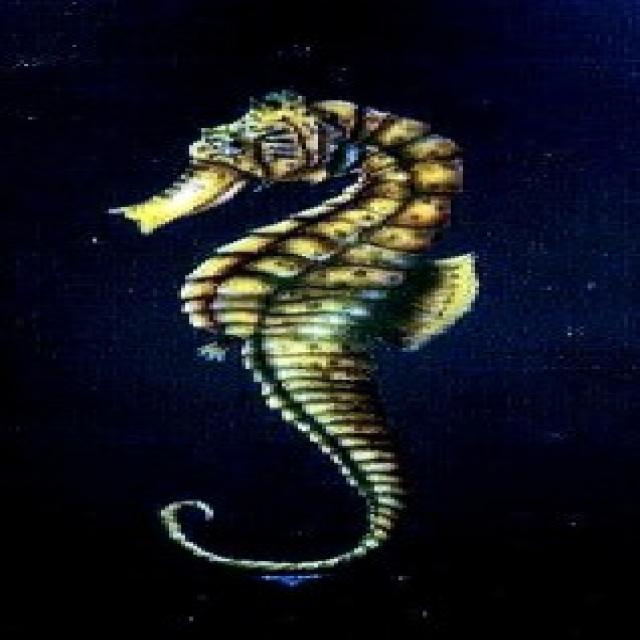Seahorse: (102, 87, 505, 583)
